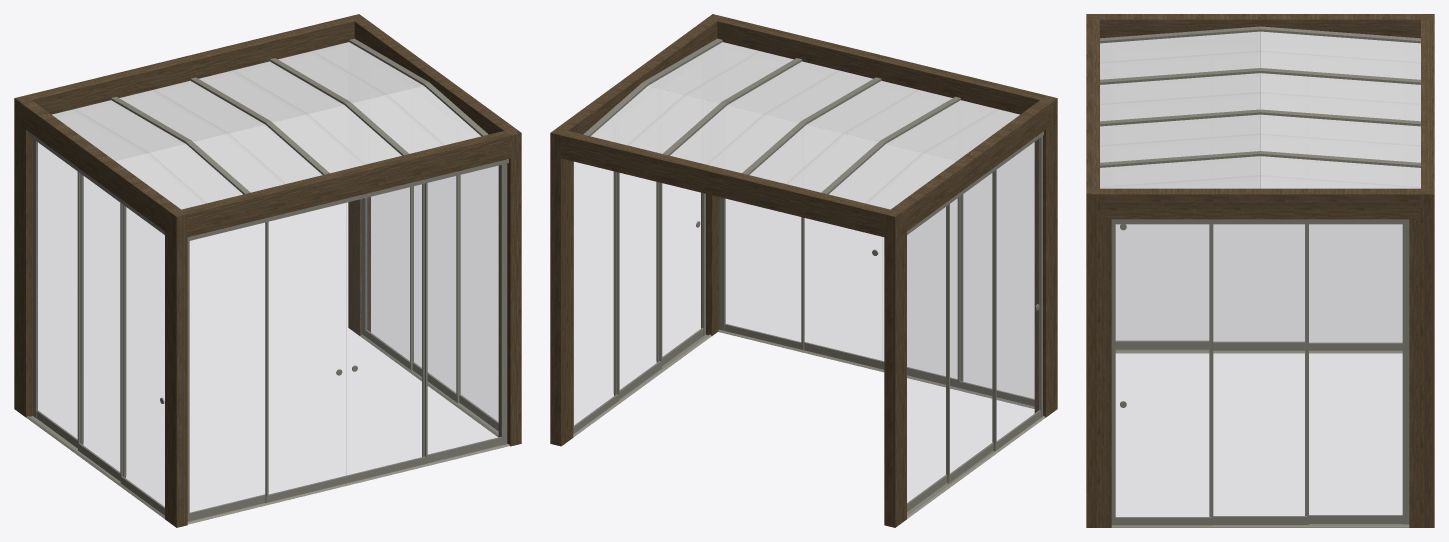
The model's file is agp_h27-w30-d24_brownebony.fbx.
3 views of the same model, side by side, from view 1: azimuth 30°, elevation 25°; view 2: azimuth 150°, elevation 25°; view 3: azimuth 270°, elevation 25° (orthographic). The views are drawn at different scales.
Parts seen in each view (by area): view 1: agp_h27-w30-d24_darkpine.001; view 2: agp_h27-w30-d24_darkpine.001; view 3: agp_h27-w30-d24_darkpine.001.
Part boxes in pixels (x1,y1,x2,y2): agp_h27-w30-d24_darkpine.001: (14, 14, 521, 527); agp_h27-w30-d24_darkpine.001: (550, 14, 1057, 527); agp_h27-w30-d24_darkpine.001: (1086, 14, 1434, 527).
Bounding box in the file's own units: 313 × 270 × 255.
4 materials, 2 textured.
